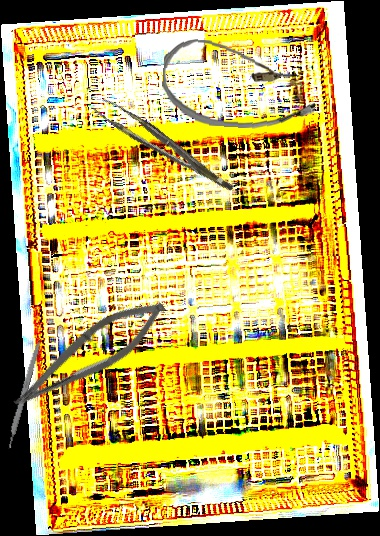Cannula: (159, 37, 320, 133)
Micro Scissor: (4, 283, 175, 428)
Scalpel Handle: (4, 337, 43, 450)
Tissue Forceps: (91, 88, 235, 208)
